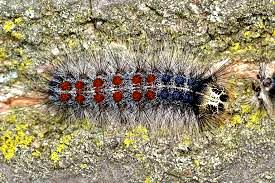Caterpillar: (38, 55, 232, 132)
